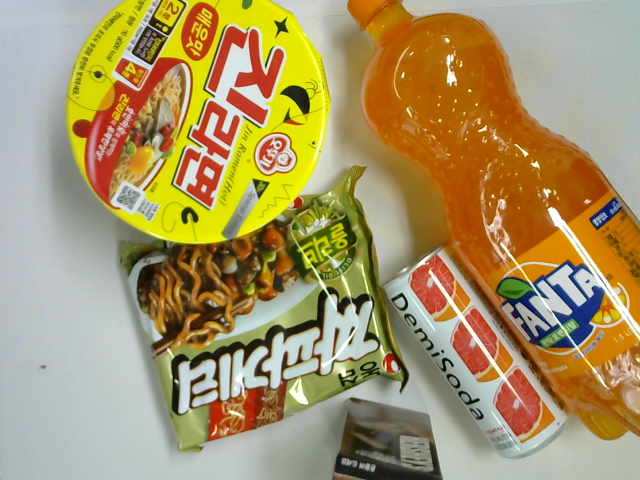Demisoda_Grapefruit_Can_250ml: (378, 238, 570, 463)
Hush_Choco_Drink: (336, 397, 445, 480)
Hwanta_Orange_1.5L: (347, 2, 640, 440)
Jinlamyeon_Hot_Taste_Large_Cup: (66, 1, 333, 248)
Olive_Chapaghetti: (114, 167, 409, 453)
